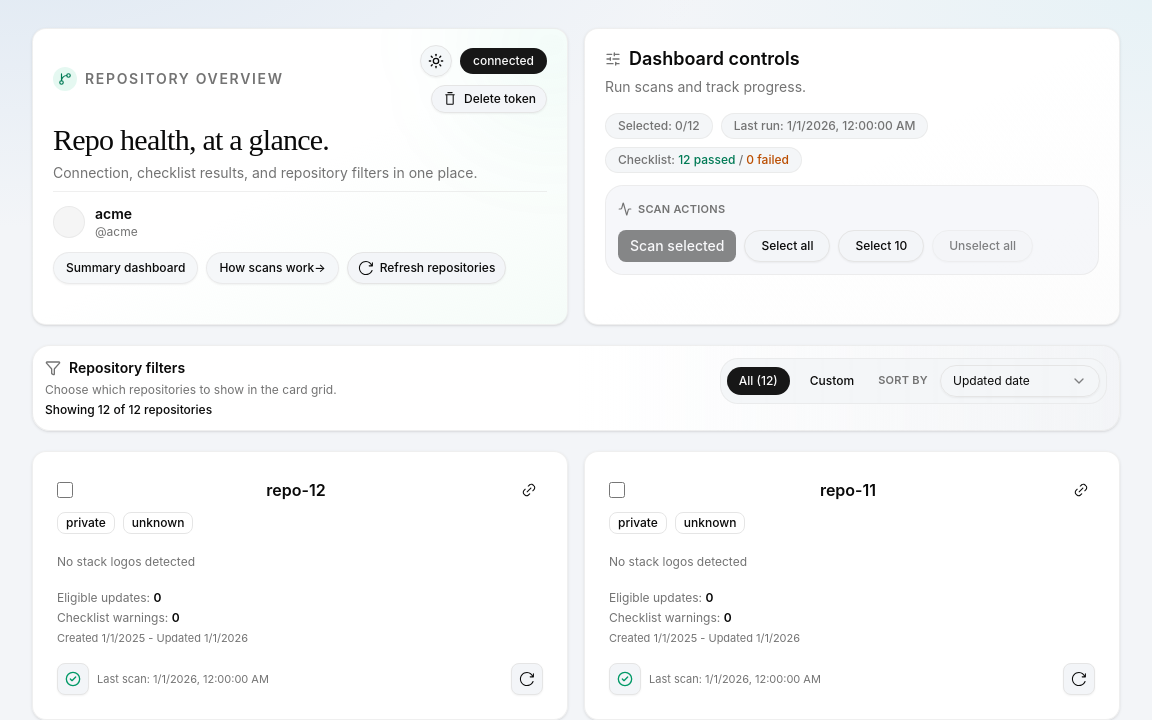
Test: RepoHealthSetup › caps scan all selection and request payload to 10 repositories
Check: the text "Selected: 0/12" is shown, box [605,113,713,139]
Click the button "Select 10": (881, 246) [838,230,924,262]
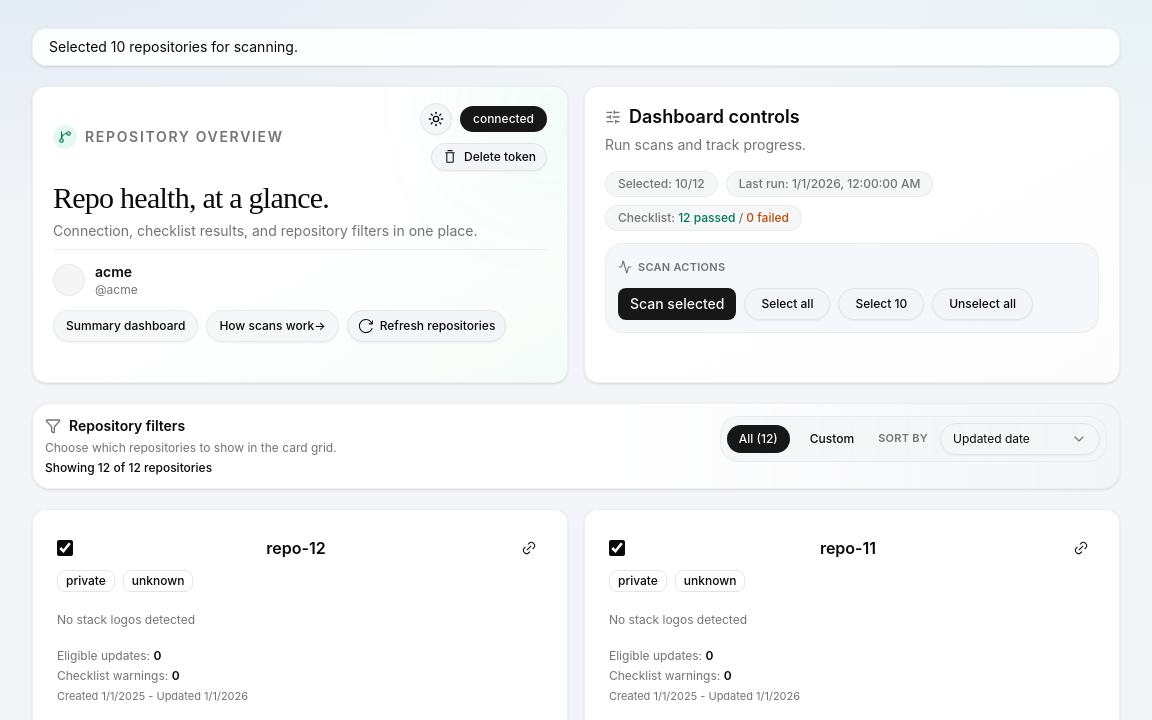
Check: the text "Selected: 10/12" is shown, box [605,171,718,197]
Click the button "Scan selected": (677, 304) [618,288,736,320]
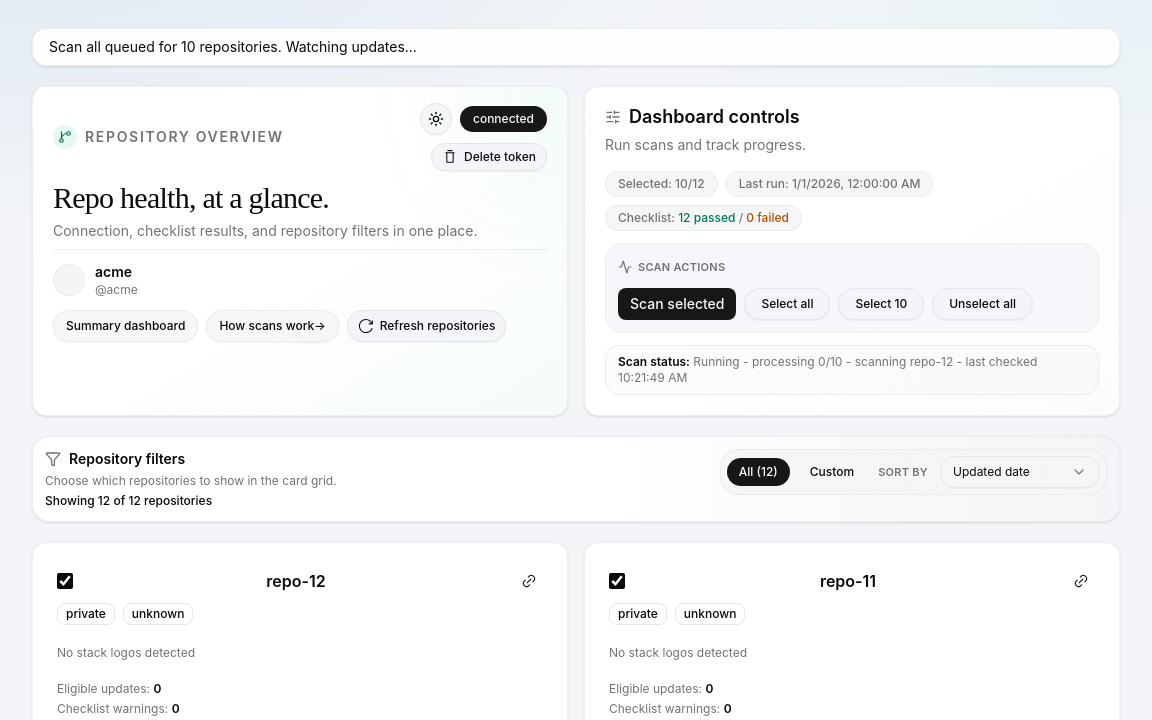
Check: the button "Scan selected" is enabled, box [618,288,736,320]
Check: the text "Scan all queued for 10 repositories. Watching updates..." is shown, box [32,28,1120,66]
